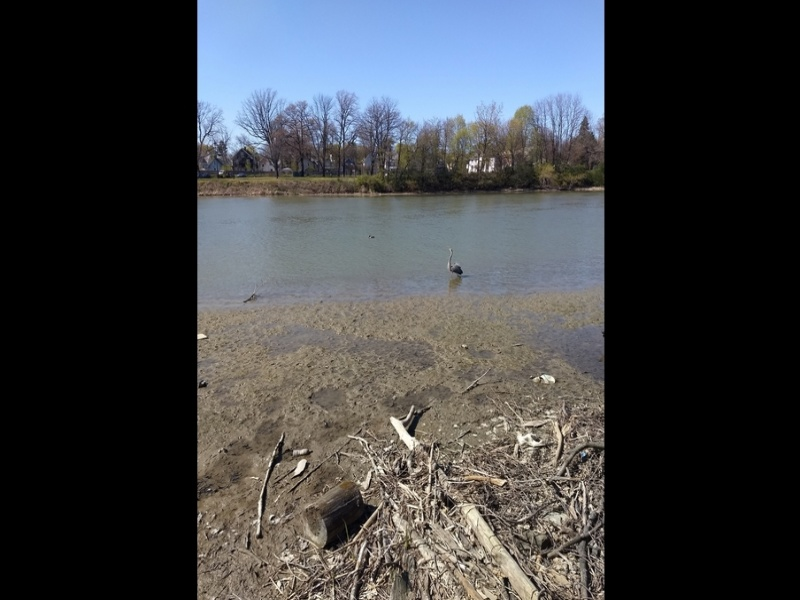heron: (445, 247, 464, 278)
